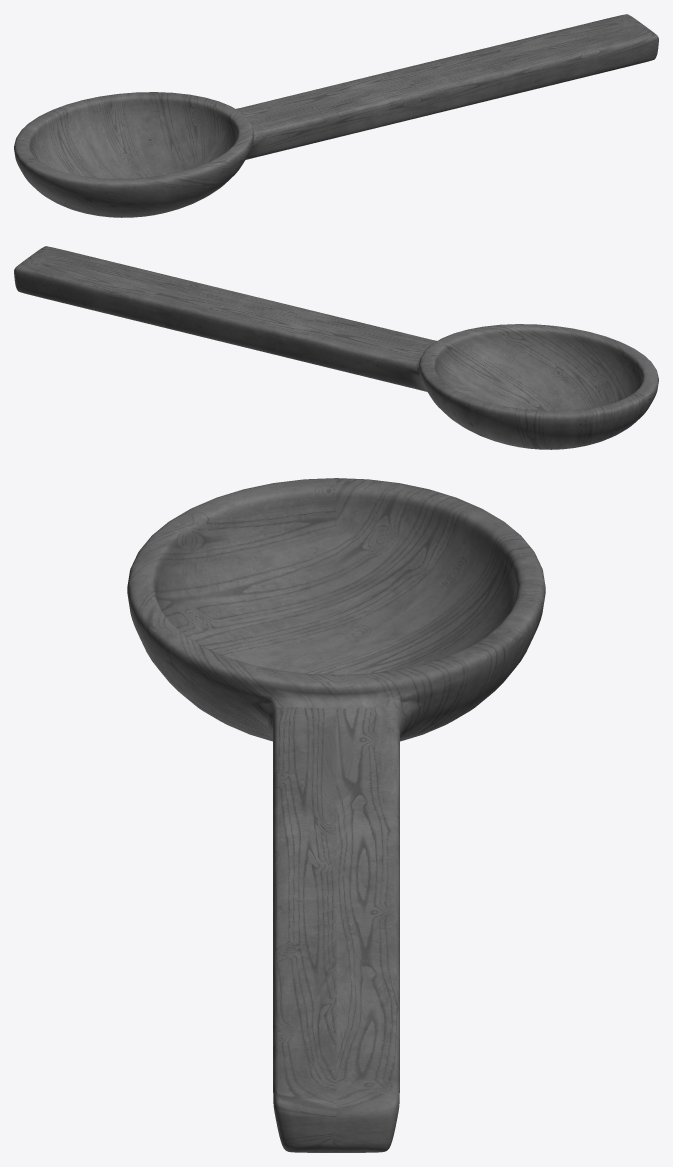
File: Spoon_With_Texture.fbx
3 renders of one model, top to bottom at view 1: azimuth 30°, elevation 25°; view 2: azimuth 150°, elevation 25°; view 3: azimuth 270°, elevation 25°, orthographic. The views are drawn at different scales.
Parts seen in each view (by area): view 1: Smoothed_Spoon; view 2: Smoothed_Spoon; view 3: Smoothed_Spoon.
Part boxes in pixels (x1=…): Smoothed_Spoon: x1=14, y1=14, x2=658, y2=217; Smoothed_Spoon: x1=14, y1=246, x2=658, y2=449; Smoothed_Spoon: x1=127, y1=478, x2=545, y2=1152.
Size of the model in its own units: 3.14 by 0.3194 by 0.9168.
